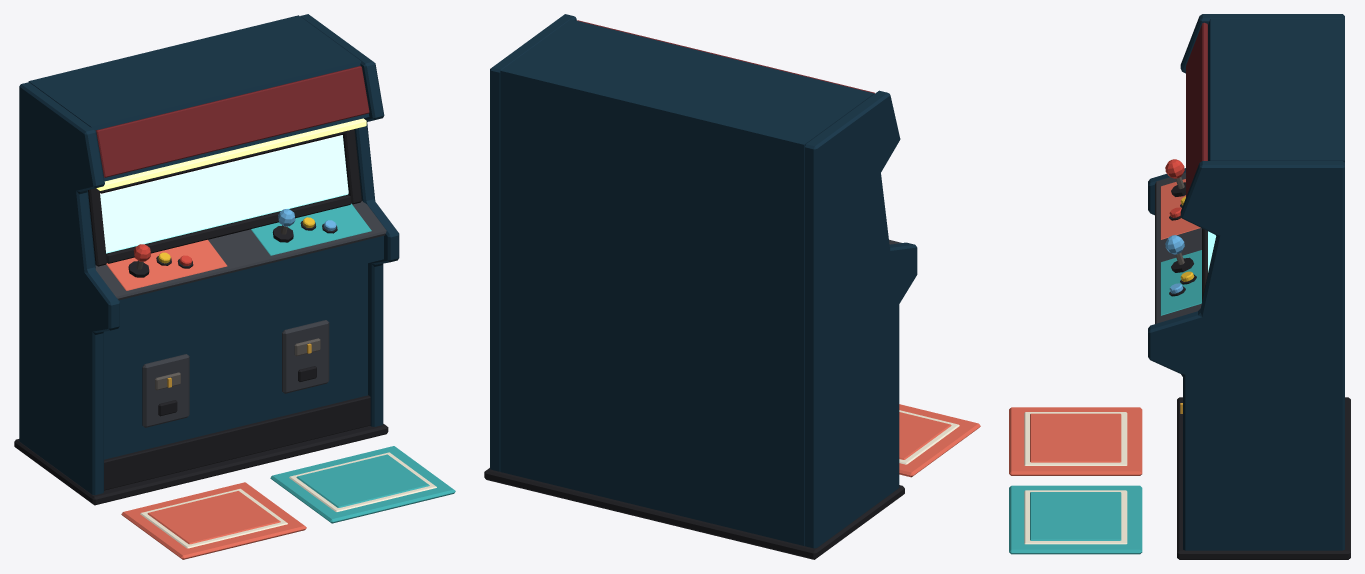
The model's file is arcade_cabinet_duo.glb.
3 renders of one model, left to right at view 1: azimuth 30°, elevation 25°; view 2: azimuth 150°, elevation 25°; view 3: azimuth 270°, elevation 25°, orthographic. The views are drawn at different scales.
Parts seen in each view (by area): view 1: arcade_cabinet_duo; view 2: arcade_cabinet_duo; view 3: arcade_cabinet_duo.
Boxes of the visible parts, left/top/right/bottom form: arcade_cabinet_duo: left=14, top=14, right=455, bottom=559; arcade_cabinet_duo: left=484, top=14, right=980, bottom=559; arcade_cabinet_duo: left=1009, top=14, right=1350, bottom=559.
Size of the model in its own units: 1.27 by 1.5 by 1.18.
